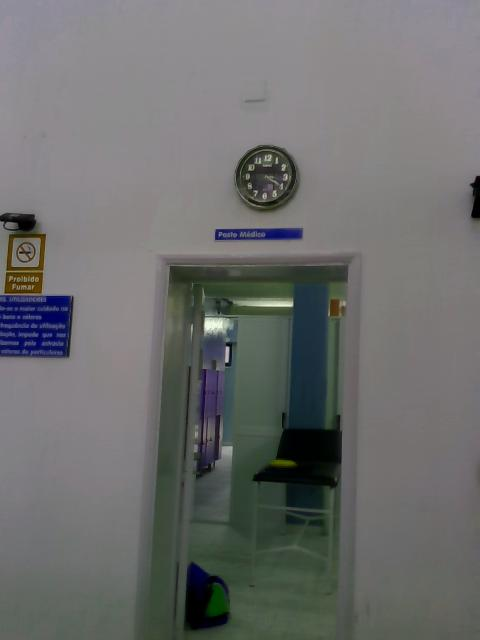open_door: (135, 250, 365, 639)
